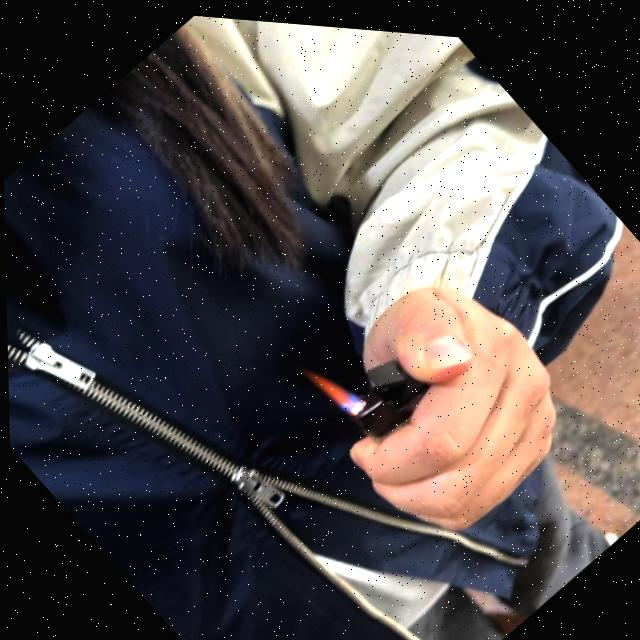Fire: (301, 345, 364, 412)
